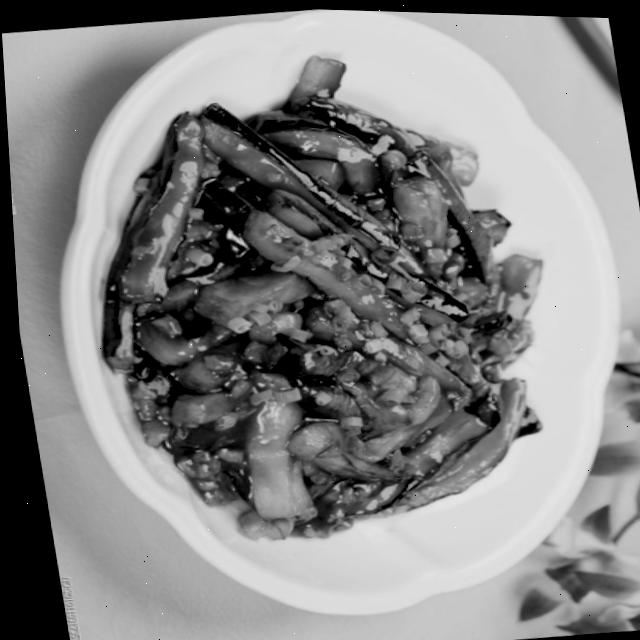鸡蛋料理: (44, 4, 626, 588)
